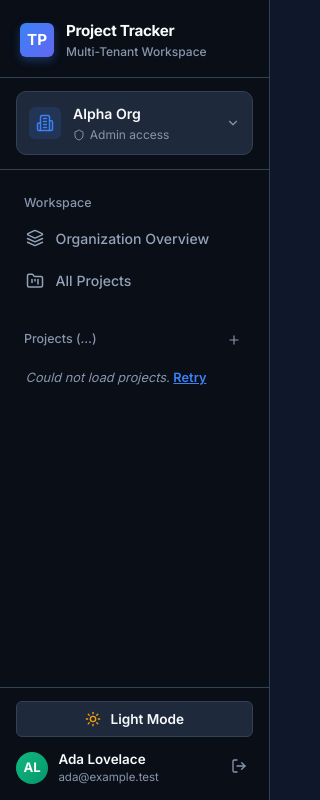
Test case: Sidebar project list: loading, empty and error states › shows an error with a working Retry instead of a misleading count
Check: the message shows "Could not load projects", box x1=26 y1=370 x2=170 y2=385
Click the button "Retry". click: point(190, 378)
box: x1=173 y1=370 x2=206 y2=385
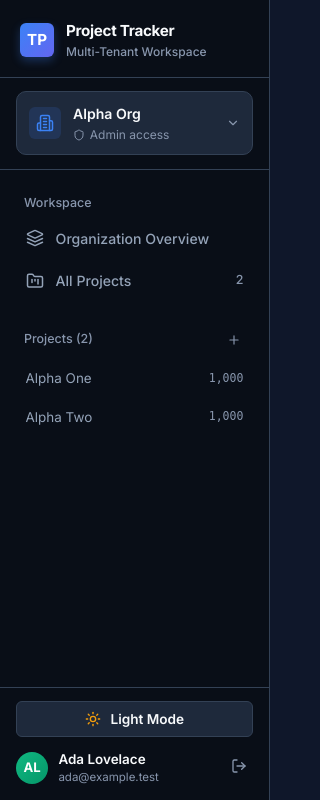
Check: the text "Projects (2)" is shown, box x1=24 y1=330 x2=93 y2=349
Check: the message "Could not load projects. Retry" is gone
